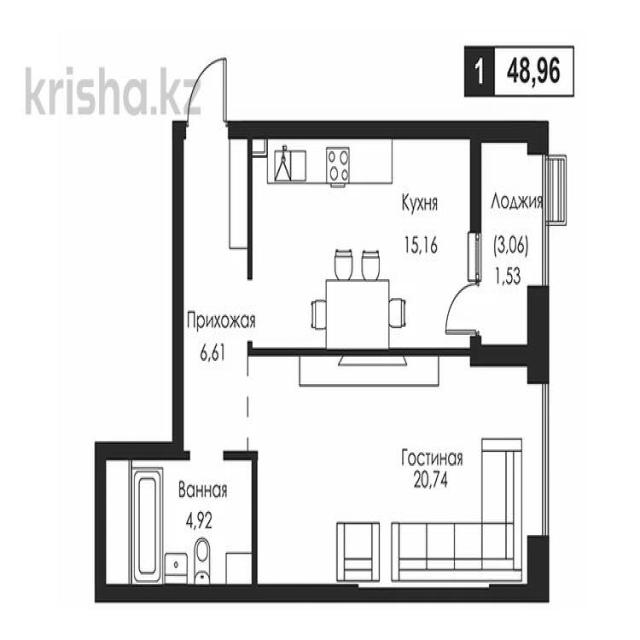balcony: (478, 130, 545, 354)
bathroom: (99, 454, 254, 590)
hallway: (175, 124, 248, 452)
kitchen: (250, 131, 474, 355)
living_room: (252, 356, 544, 587)
